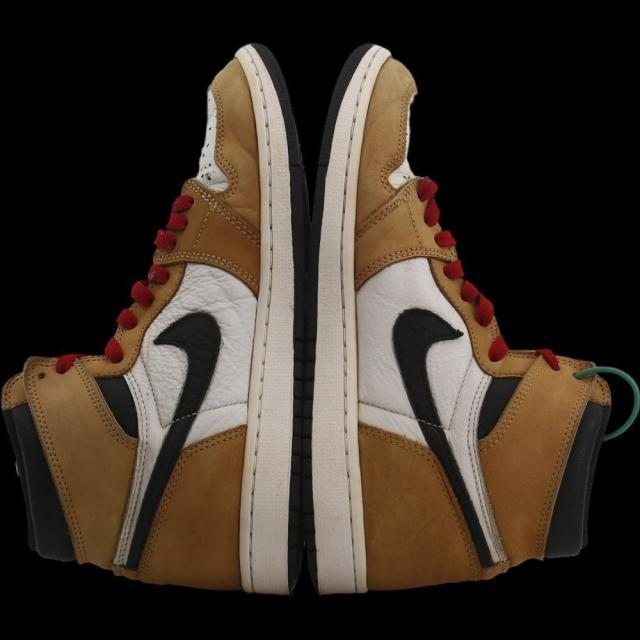nike original jordan 1: (0, 34, 304, 608), (308, 43, 610, 605)
